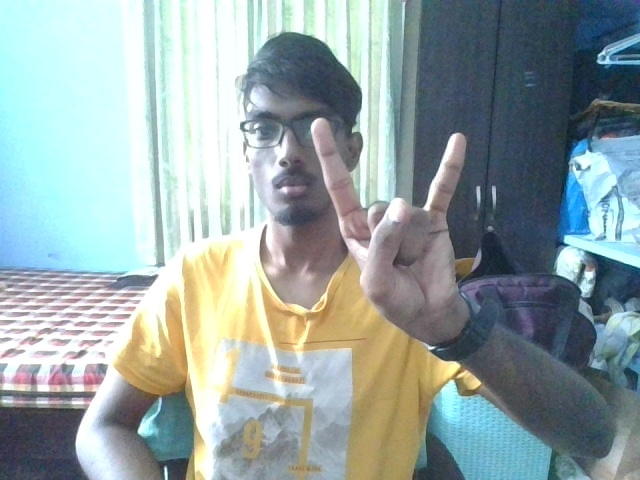I Love You: (309, 113, 469, 321)
